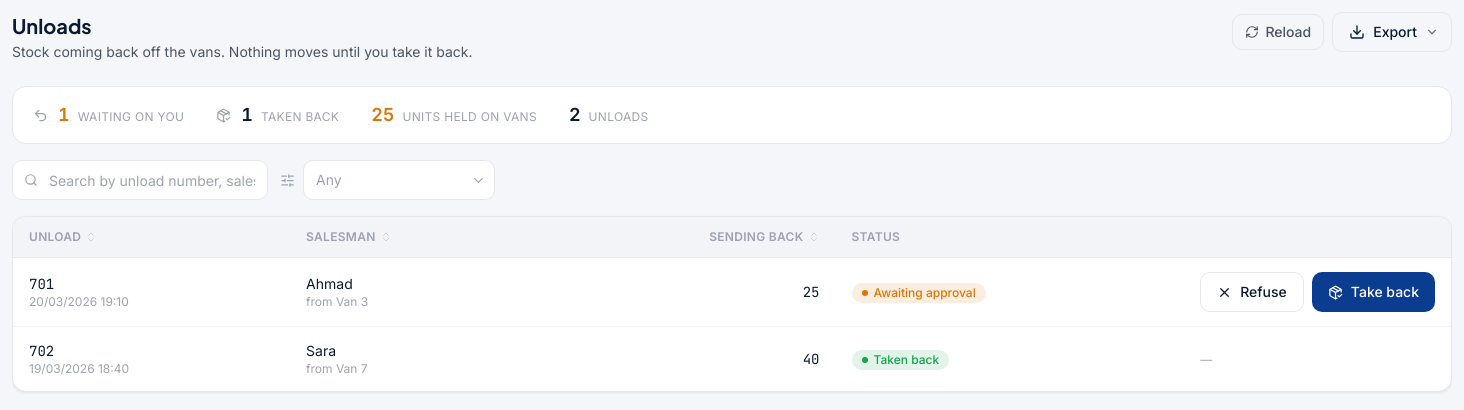
Test case: Unloads › finds a document by its number without falling over
Check: the table is shown, box top-left (13, 258), bottom-right (1451, 391)
Check: the text "Van 3" is shown, box top-left (336, 294), bottom-right (368, 309)
Type "702" into the field with placeholder "Search by unload number, salesman or depot…".
click(140, 180); type("702")  # box top-left (12, 160), bottom-right (268, 200)
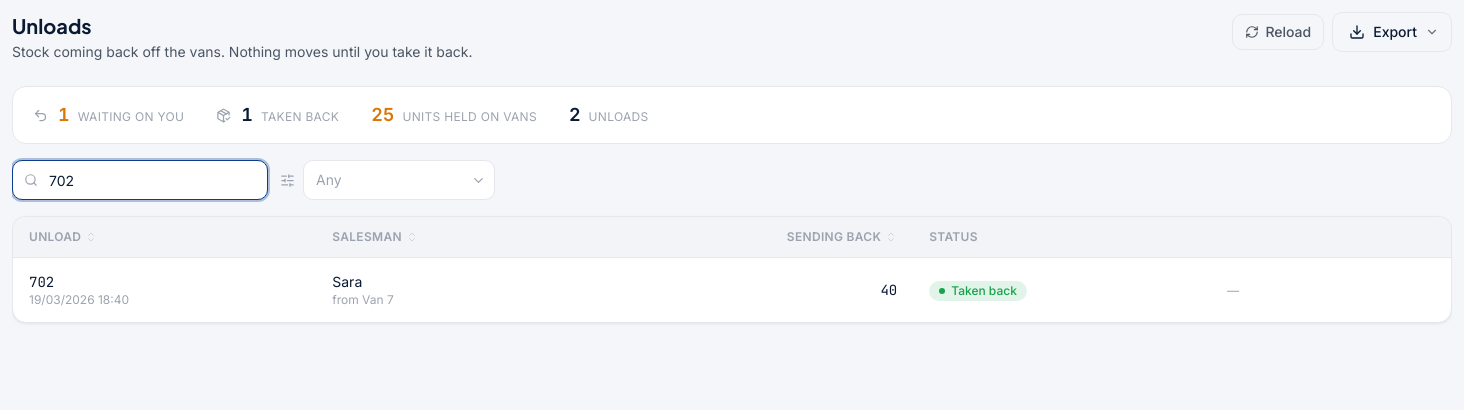
Check: the text "Van 7" is shown, box top-left (362, 292), bottom-right (394, 307)
Check: the text "Van 3" is gone
